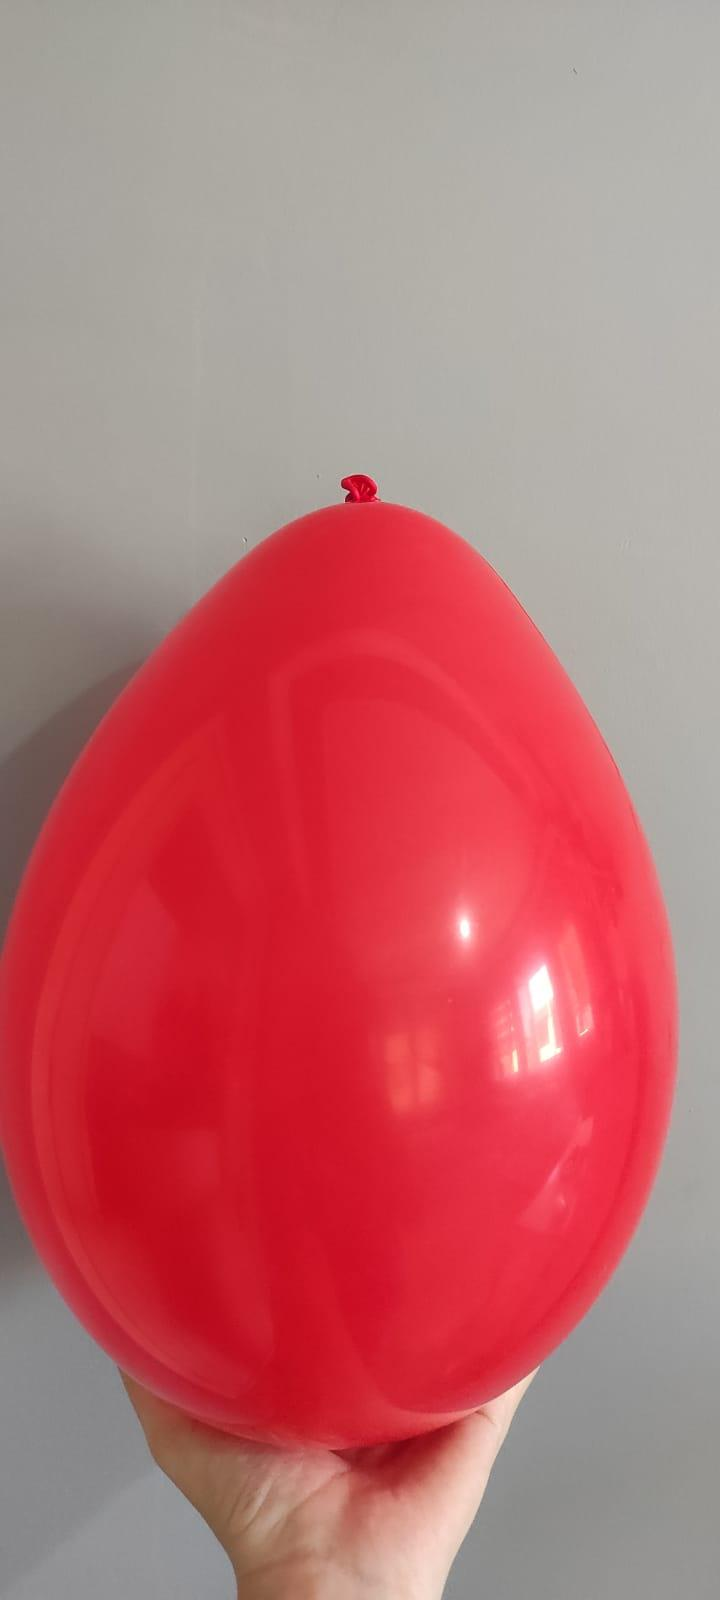red: (0, 457, 689, 1446)
